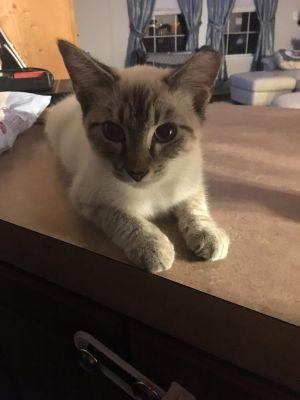siamese: (49, 25, 226, 201)
